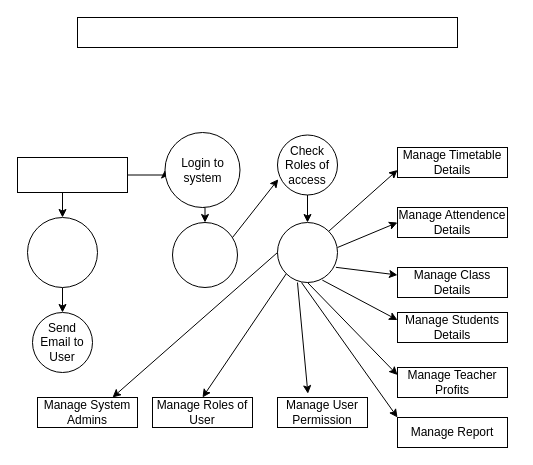
The diagram is 533 pixels wide and 465 high, and some of its shapes have lost their labels. The shapes that lost their labels are listed below. From the top down, each one's box as (x1, y1, x2, y2) in pixels, then its label:
(76, 16, 458, 48): Student Information System
(16, 156, 128, 192): Admin
(26, 216, 98, 288): Forget Password
(172, 222, 238, 288): Check Credentials
(276, 222, 338, 282): Manage Modulesd
